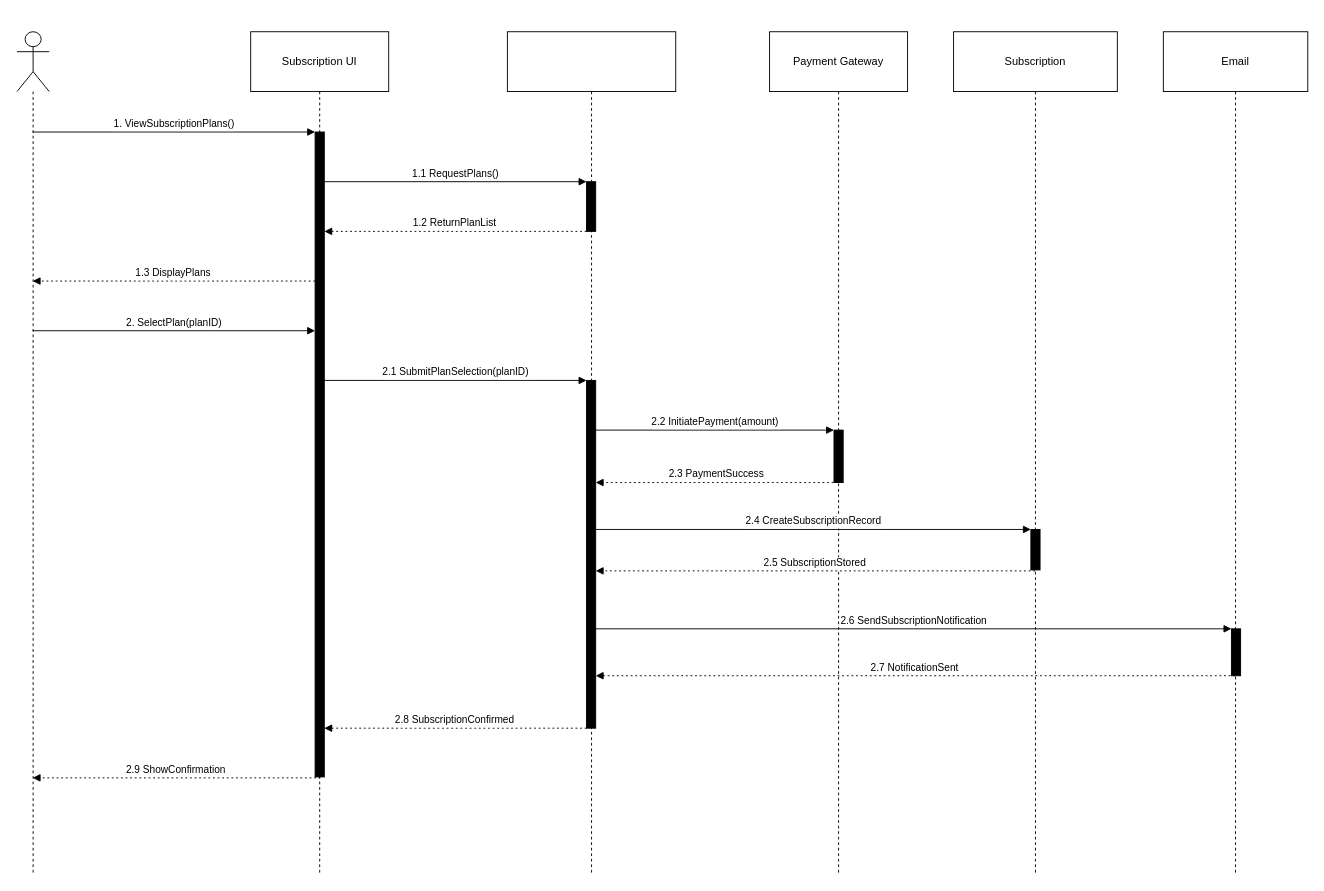
The diagram is 1324 pixels wide and 891 high, and some of its shapes have lost their labels. The shapes that lost their labels are listed below. From the top down, each one's box as (x1, y1, x2, y2) in pixels, then its label:
(16, 31, 49, 874): School
(506, 31, 676, 874): Subscription Controller
